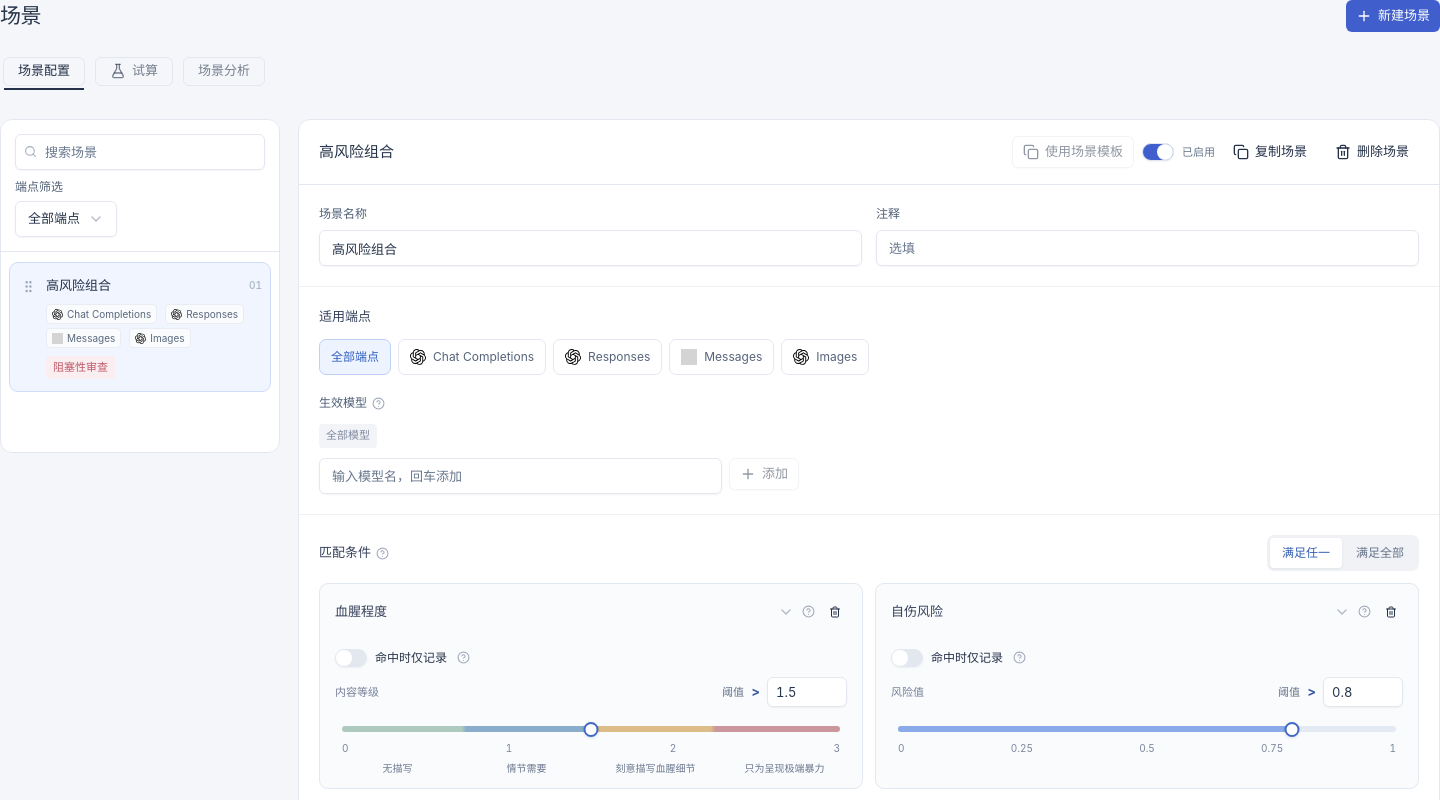
Test: can discard a scene draft from the analysis tab
Replace the text in the field labelled "场景名称" with "未保存" at (590, 248), box [319,230,862,266]
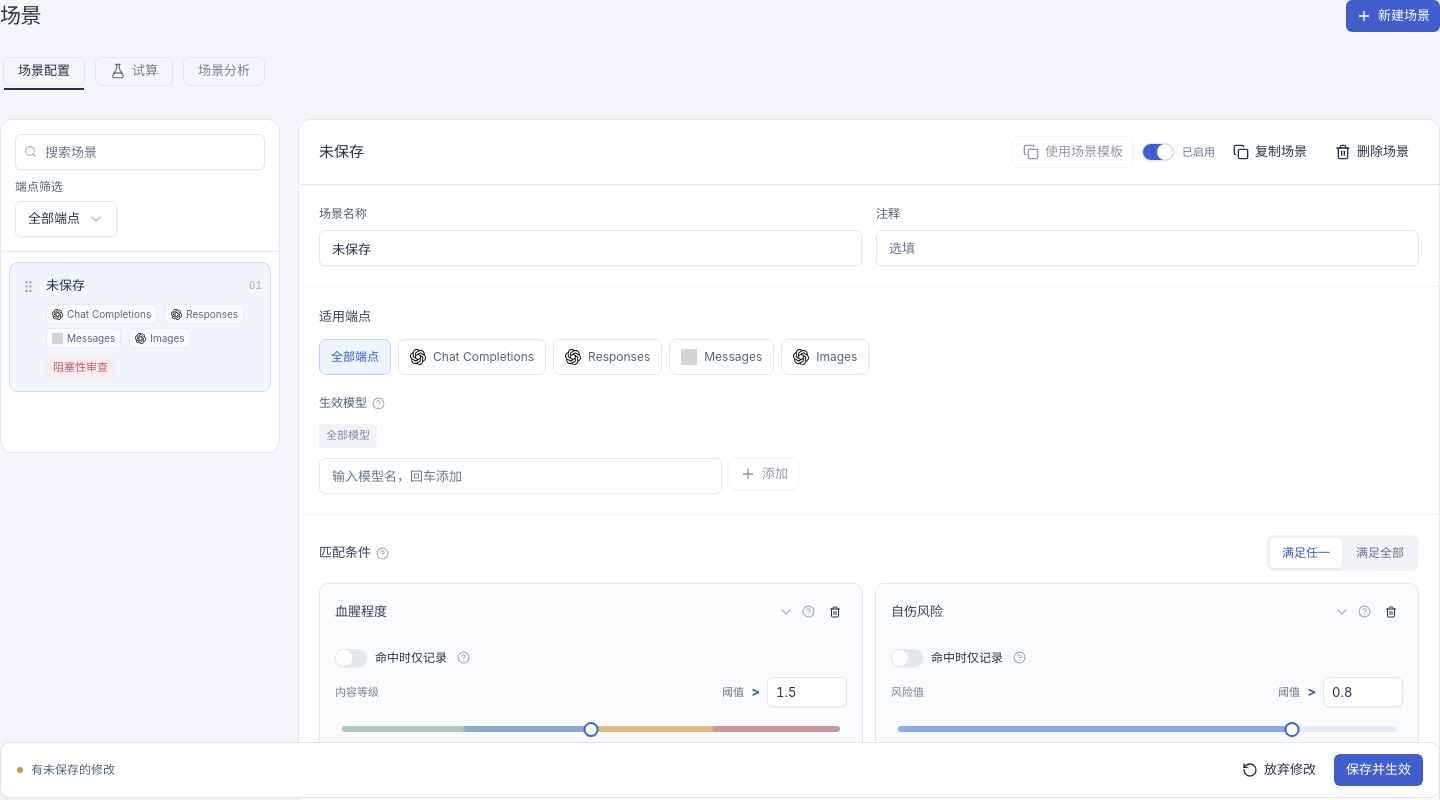
Press the mouse on the tab "场景分析" at (224, 71), box [183,56,265,86]
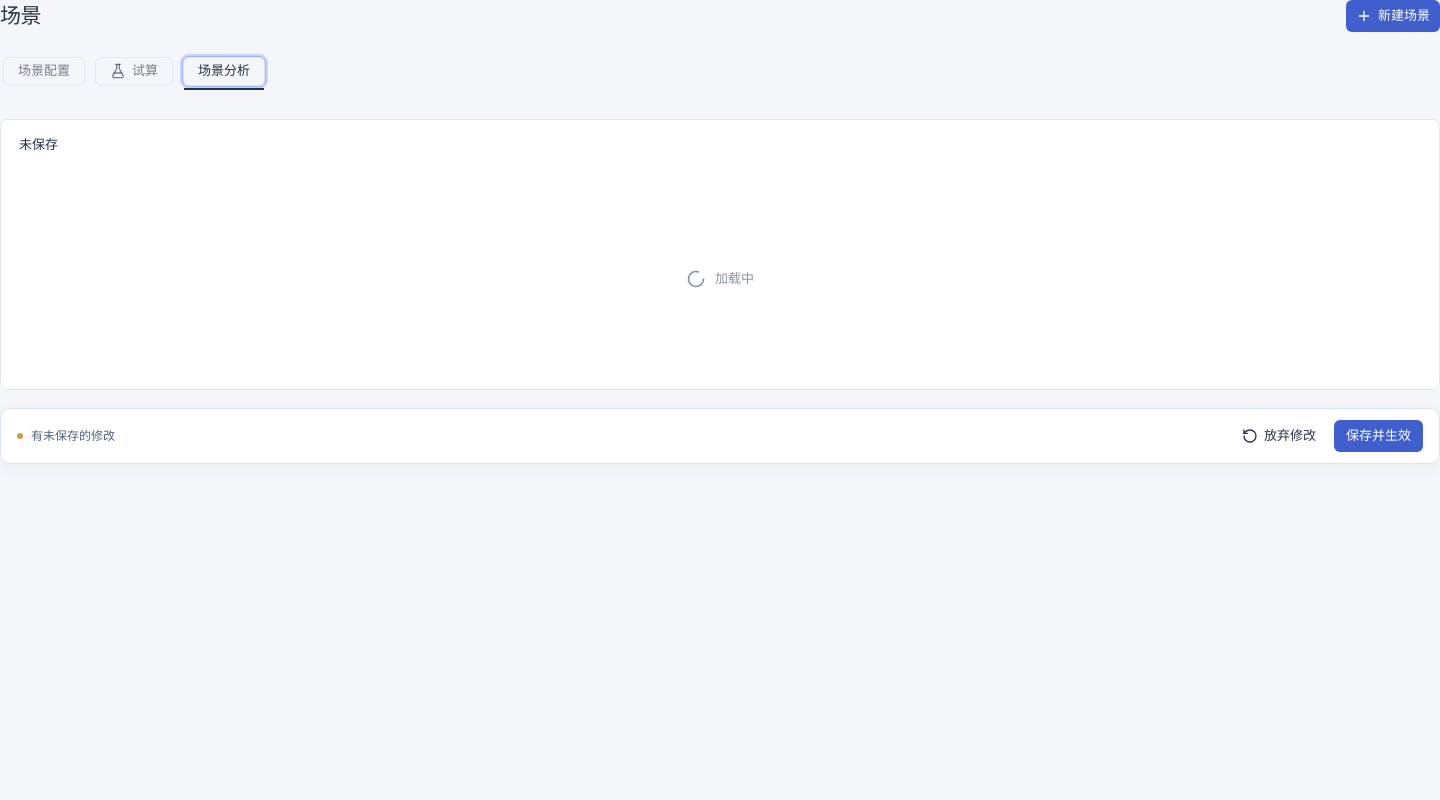
Click the button "放弃修改".
click(1279, 436)  # box [1232,420,1326,452]
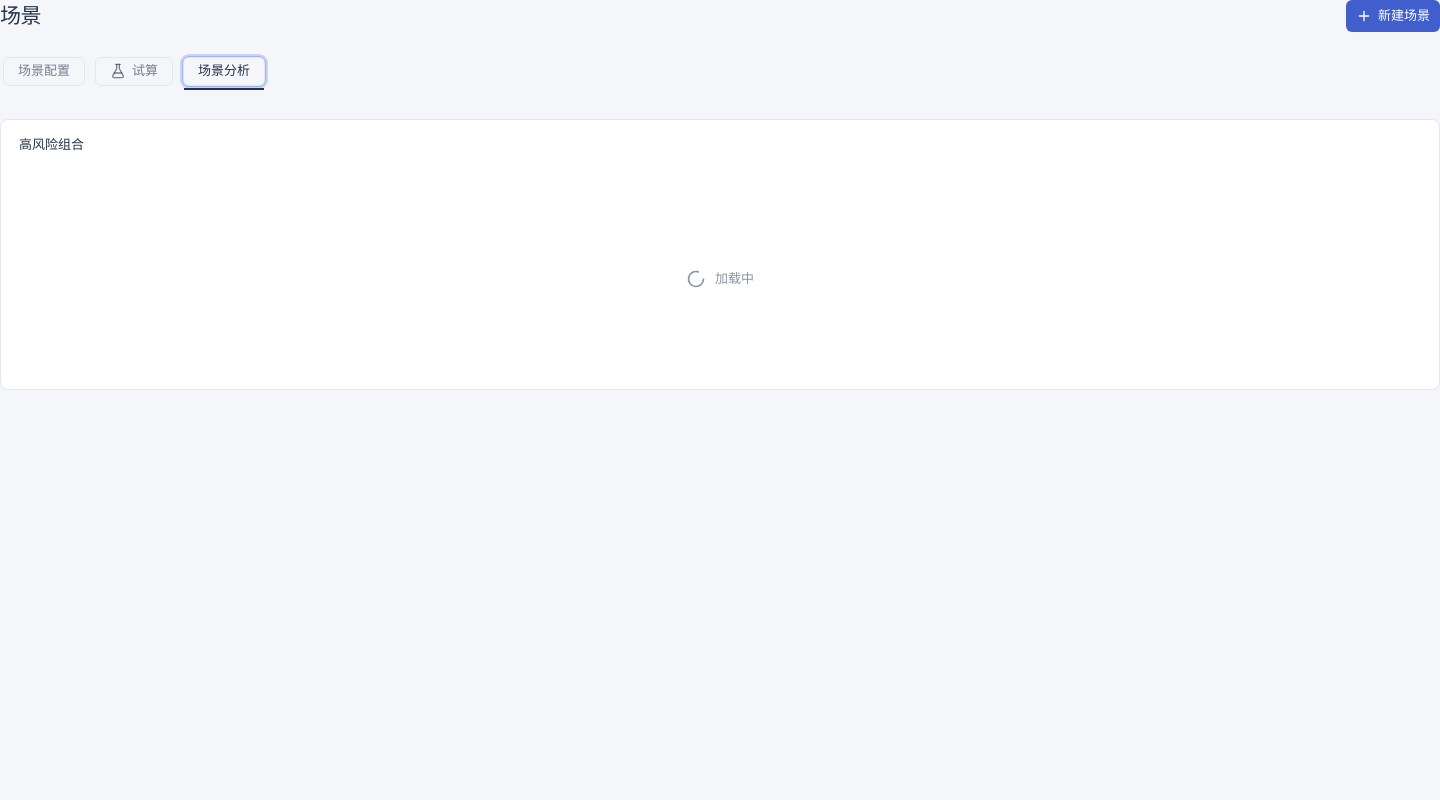
Press the mouse on the tab "场景配置" at (44, 71), box [3,56,85,86]
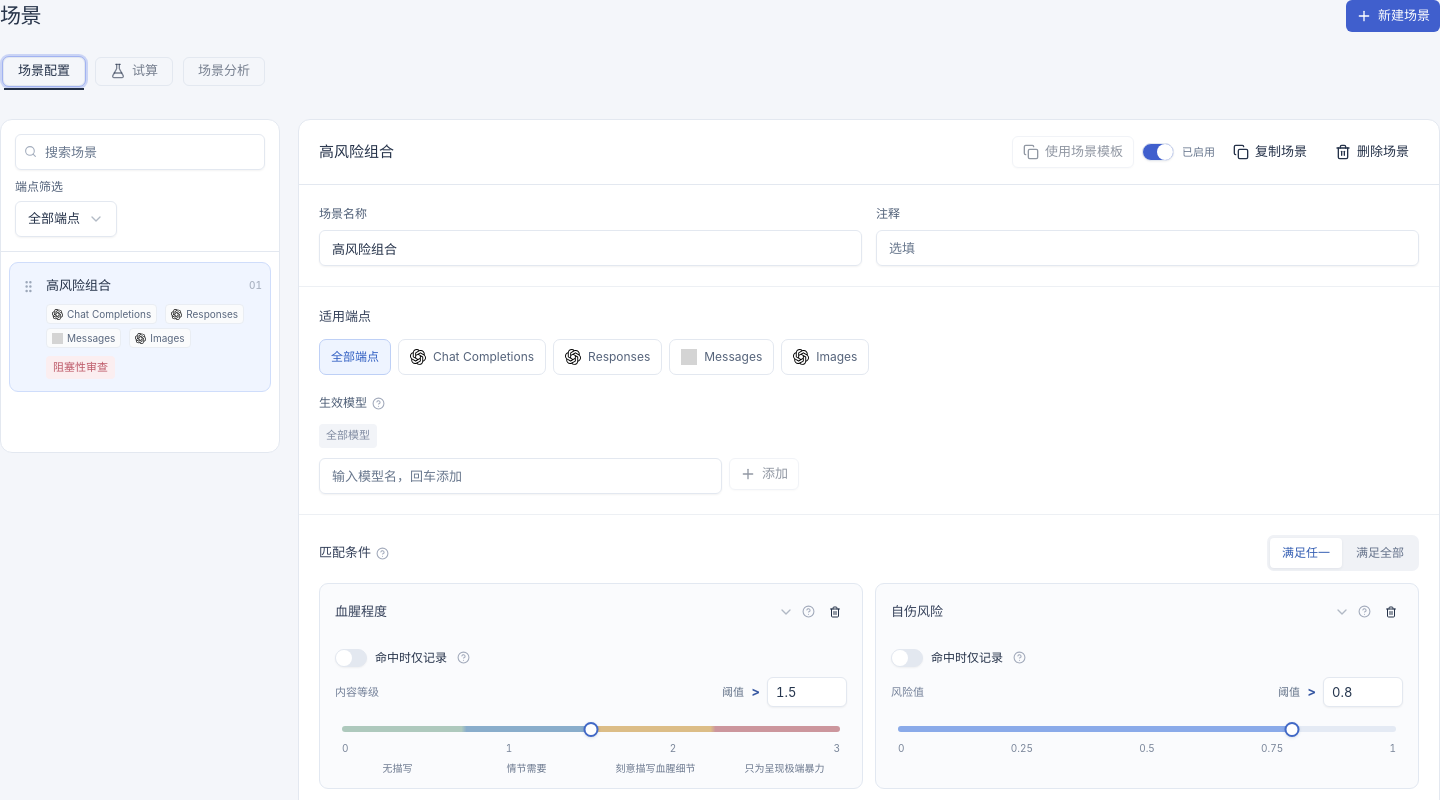
Expected: the button "保存并生效" is not shown
Now the field labelled "场景名称" holds "高风险组合", box [319,230,862,266]
